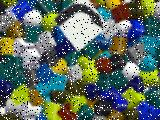Right: (53, 0, 109, 52)
